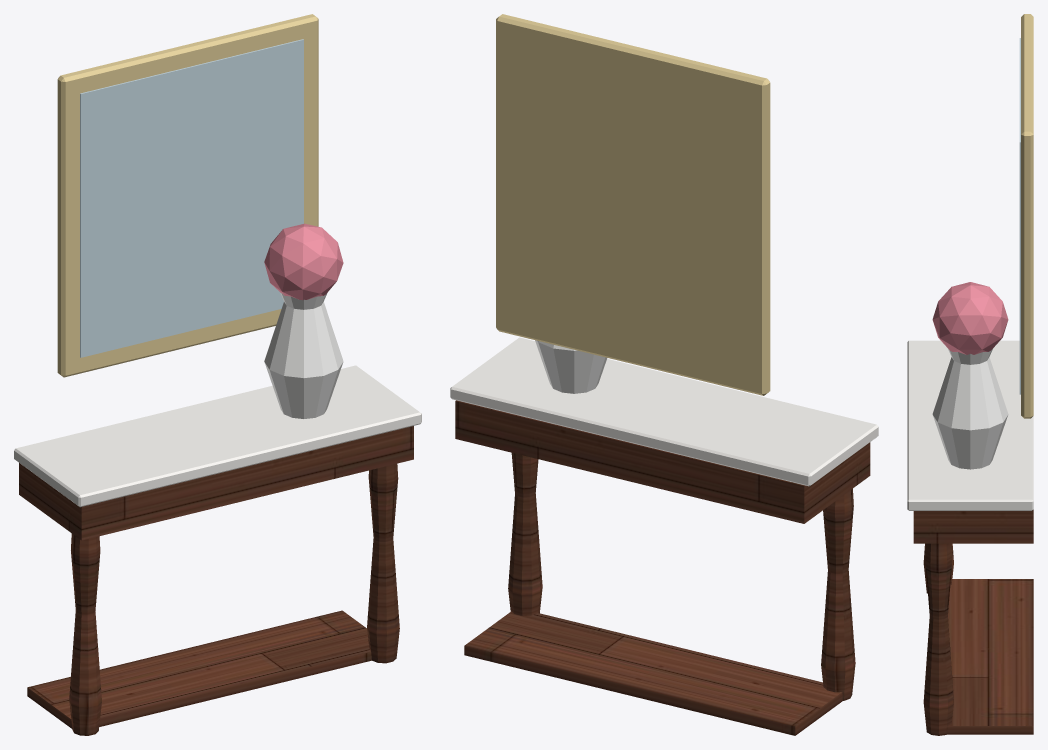
Rendered from console.glb.
3 views of the same model, side by side, from view 1: azimuth 30°, elevation 25°; view 2: azimuth 150°, elevation 25°; view 3: azimuth 270°, elevation 25° (orthographic). The views are drawn at different scales.
Visible parts, largest first — view 1: console_glass, console_dkwood, console_marble_w, console_brass, console_porcelain, console_flower; view 2: console_brass, console_dkwood, console_marble_w, console_porcelain; view 3: console_dkwood, console_marble_w, console_porcelain, console_brass, console_flower, console_glass.
Part boxes in pixels (x1=…): console_glass: x1=80, y1=39, x2=303, y2=357; console_dkwood: x1=19, y1=426, x2=413, y2=735; console_marble_w: x1=14, y1=365, x2=421, y2=507; console_brass: x1=57, y1=14, x2=318, y2=377; console_porcelain: x1=264, y1=292, x2=343, y2=418; console_flower: x1=264, y1=223, x2=343, y2=300; console_brass: x1=496, y1=14, x2=770, y2=395; console_dkwood: x1=455, y1=400, x2=870, y2=735; console_marble_w: x1=450, y1=337, x2=878, y2=486; console_porcelain: x1=535, y1=340, x2=607, y2=393; console_dkwood: x1=913, y1=510, x2=1033, y2=735; console_marble_w: x1=907, y1=340, x2=1033, y2=510; console_porcelain: x1=932, y1=349, x2=1008, y2=469; console_brass: x1=1021, y1=14, x2=1033, y2=418; console_flower: x1=932, y1=282, x2=1008, y2=354; console_glass: x1=1019, y1=38, x2=1020, y2=394.
Size of the model in its own units: 1.2 by 2.05 by 0.4.
Materials: 6 (1 with a texture image).
